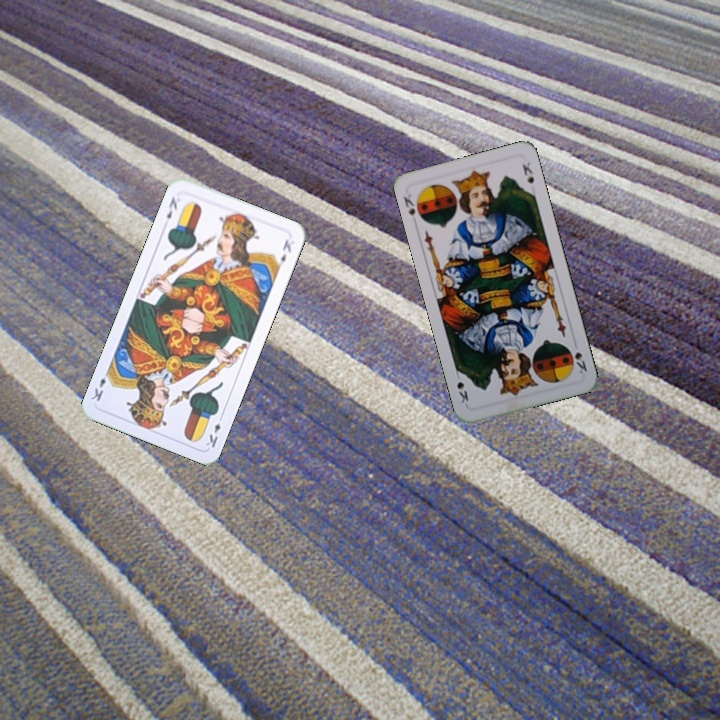EK: (202, 411, 226, 450), (162, 193, 180, 221)
SK: (570, 337, 590, 377), (399, 191, 418, 219)
